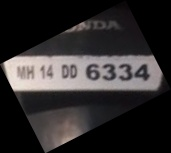character: (133, 62, 150, 81), (117, 61, 132, 81), (84, 62, 100, 80), (101, 62, 117, 80), (16, 65, 26, 81), (60, 63, 69, 78), (26, 64, 34, 80), (45, 63, 53, 79), (69, 63, 78, 77), (39, 64, 46, 79)
